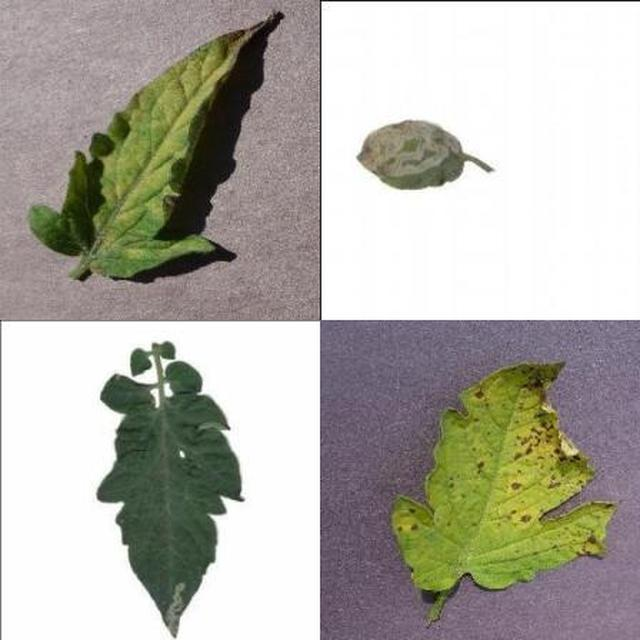Leaf Mold: (157, 102, 640, 640)
